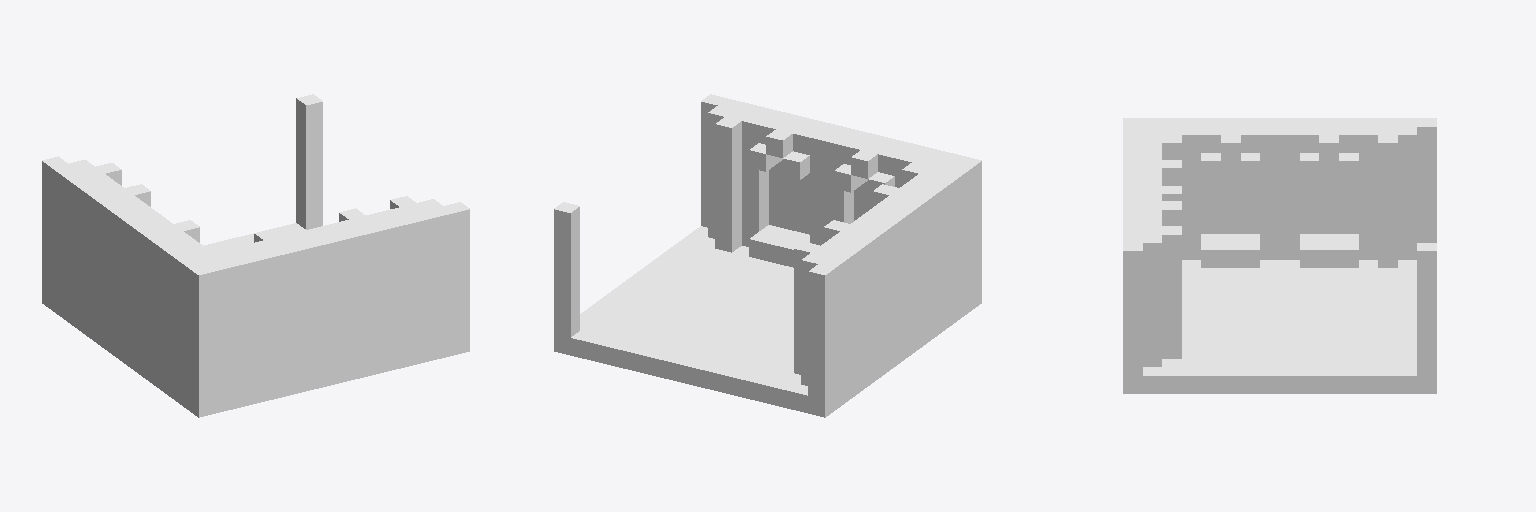
File: towar-29.obj
3 views of the same model, side by side, from view 1: azimuth 30°, elevation 25°; view 2: azimuth 150°, elevation 25°; view 3: azimuth 270°, elevation 25° (orthographic).
Visible parts, largest first — view 1: towar-29; view 2: towar-29; view 3: towar-29.
Boxes of the visible parts, x1,y1,x2,y2 form: towar-29: [42, 94, 469, 417]; towar-29: [554, 94, 981, 417]; towar-29: [1123, 118, 1436, 393].
Bounding box in the file's own units: 16 × 8 × 16.